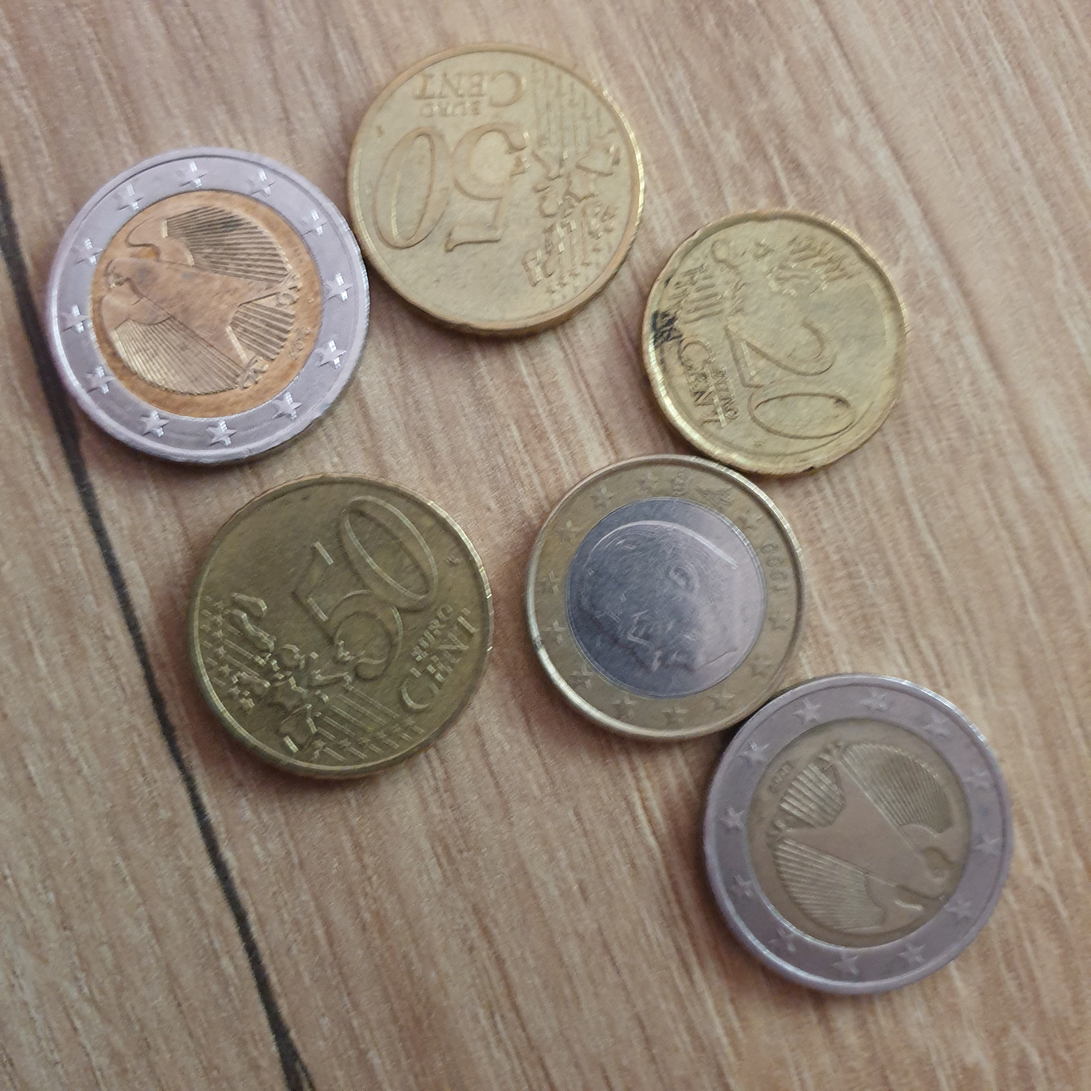1 euro: (511, 441, 811, 749)
2 euro: (698, 670, 1021, 1001), (49, 146, 371, 478)
20 cent: (628, 208, 927, 475)
50 cent: (189, 469, 501, 799), (338, 47, 650, 342)
